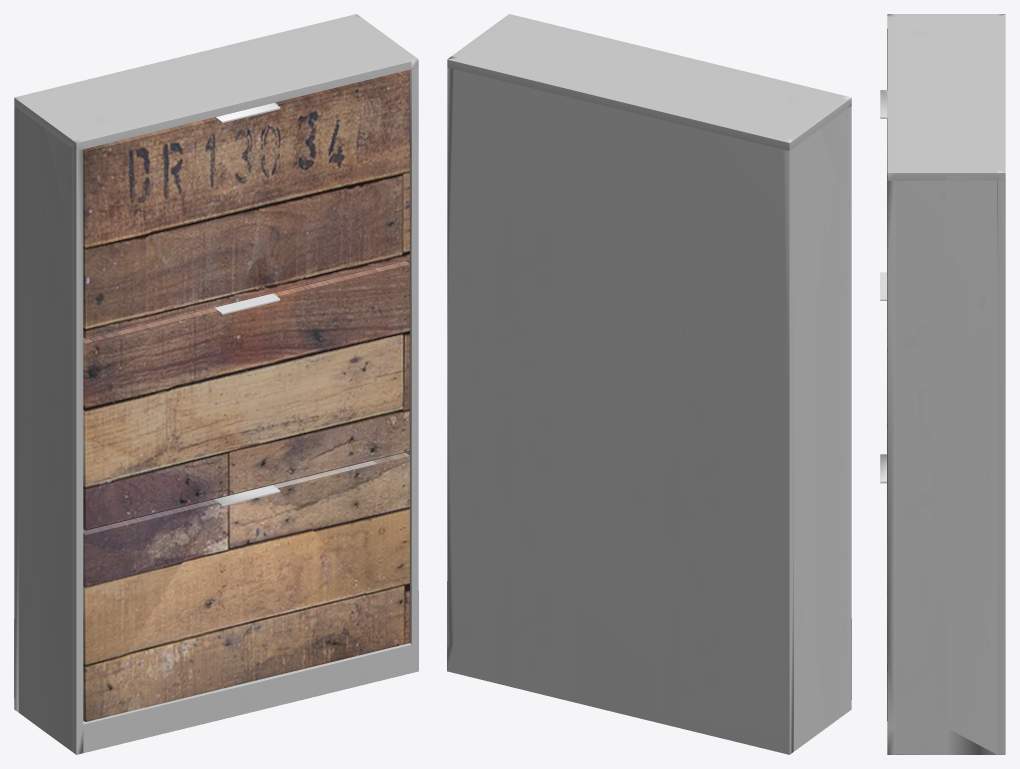
The model's file is B07GFS1WH7.glb.
3 views of the same model, side by side, from view 1: azimuth 30°, elevation 25°; view 2: azimuth 150°, elevation 25°; view 3: azimuth 270°, elevation 25° (orthographic). The views are drawn at different scales.
Parts seen in each view (by area): view 1: RootNode; view 2: RootNode; view 3: RootNode.
Part boxes in pixels (<box>): RootNode: <box>14,14,418,754</box>; RootNode: <box>447,14,851,754</box>; RootNode: <box>880,14,1005,754</box>.
Size of the model in its own units: 0.7499 by 1.28 by 0.2499.
Materials: 1 (1 with a texture image).
